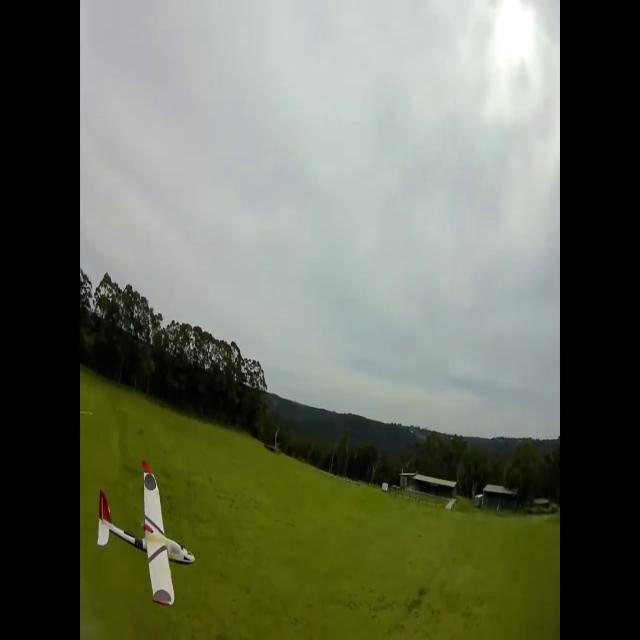iha: (130, 462, 163, 608)
